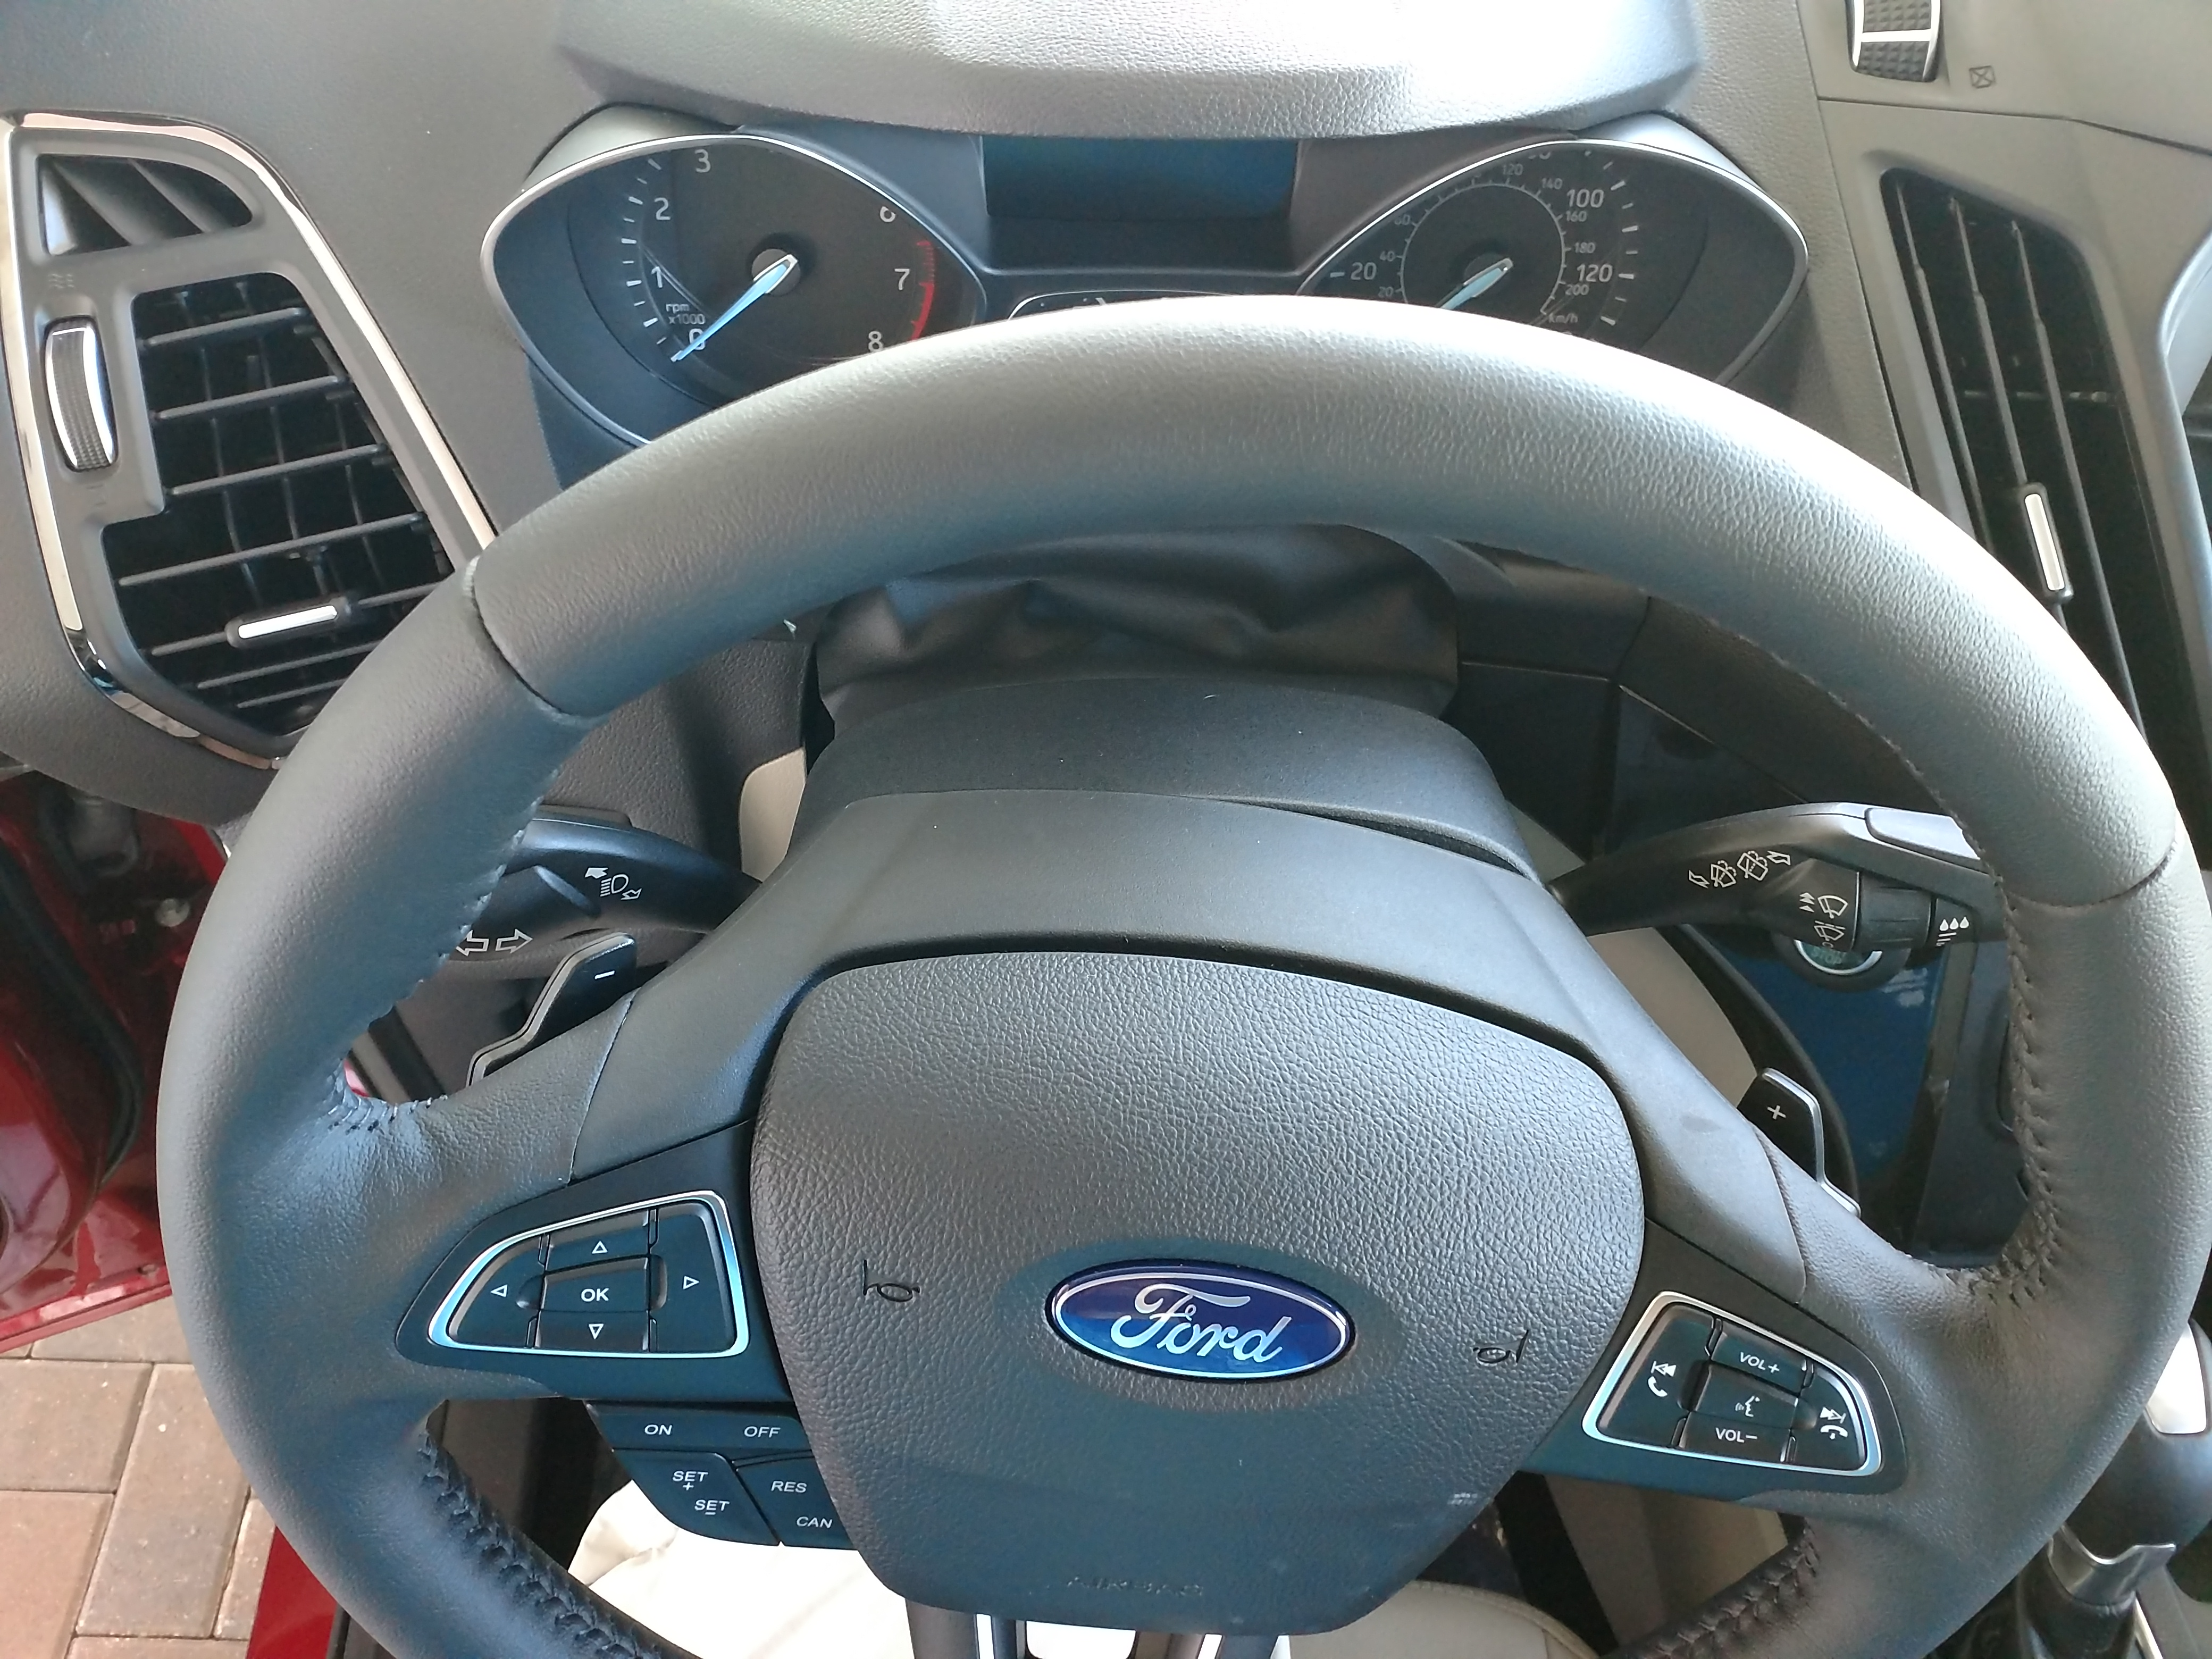Ford: (1042, 1253, 1359, 1401)
